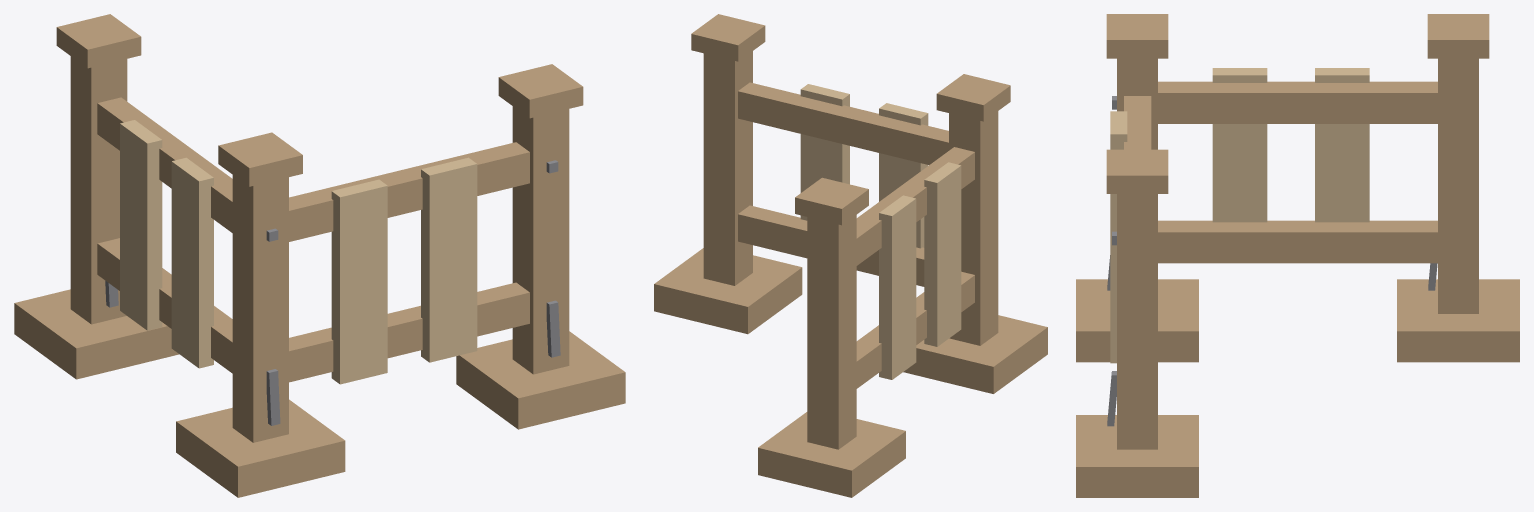
The model's file is hy4_valla_rojo_20261108.glb.
3 renders of one model, left to right at view 1: azimuth 30°, elevation 25°; view 2: azimuth 150°, elevation 25°; view 3: azimuth 270°, elevation 25°, orthographic. The views are drawn at different scales.
Visible parts, largest first — view 1: SM_Valla_Basas_Postes_NOFUNDIR, SM_Valla_Tablas_NOFUNDIR, SM_Valla_Travesanos_NOFUNDIR, SM_Valla_Remates_NOFUNDIR, SM_Valla_Clavos_NOFUNDIR; view 2: SM_Valla_Basas_Postes_NOFUNDIR, SM_Valla_Tablas_NOFUNDIR, SM_Valla_Travesanos_NOFUNDIR, SM_Valla_Remates_NOFUNDIR; view 3: SM_Valla_Basas_Postes_NOFUNDIR, SM_Valla_Travesanos_NOFUNDIR, SM_Valla_Tablas_NOFUNDIR, SM_Valla_Remates_NOFUNDIR, SM_Valla_Clavos_NOFUNDIR.
Boxes of the visible parts, x1,y1,x2,y2 form: SM_Valla_Basas_Postes_NOFUNDIR: (14,56,625,497); SM_Valla_Tablas_NOFUNDIR: (120,120,477,384); SM_Valla_Travesanos_NOFUNDIR: (97,97,529,382); SM_Valla_Remates_NOFUNDIR: (56,14,583,186); SM_Valla_Clavos_NOFUNDIR: (105,160,560,425); SM_Valla_Basas_Postes_NOFUNDIR: (654,51,1047,497); SM_Valla_Tablas_NOFUNDIR: (800,84,961,379); SM_Valla_Travesanos_NOFUNDIR: (738,82,974,388); SM_Valla_Remates_NOFUNDIR: (691,14,1010,225); SM_Valla_Basas_Postes_NOFUNDIR: (1076,58,1519,497); SM_Valla_Travesanos_NOFUNDIR: (1124,81,1437,263); SM_Valla_Tablas_NOFUNDIR: (1110,68,1369,363); SM_Valla_Remates_NOFUNDIR: (1106,14,1489,193); SM_Valla_Clavos_NOFUNDIR: (1107,96,1437,426).
Bounding box in the file's own units: 1.3 × 1 × 1.3.
